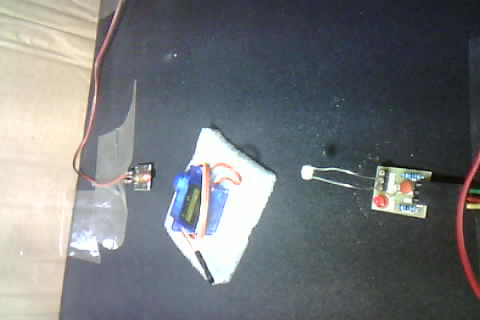motor: (156, 150, 251, 282)
